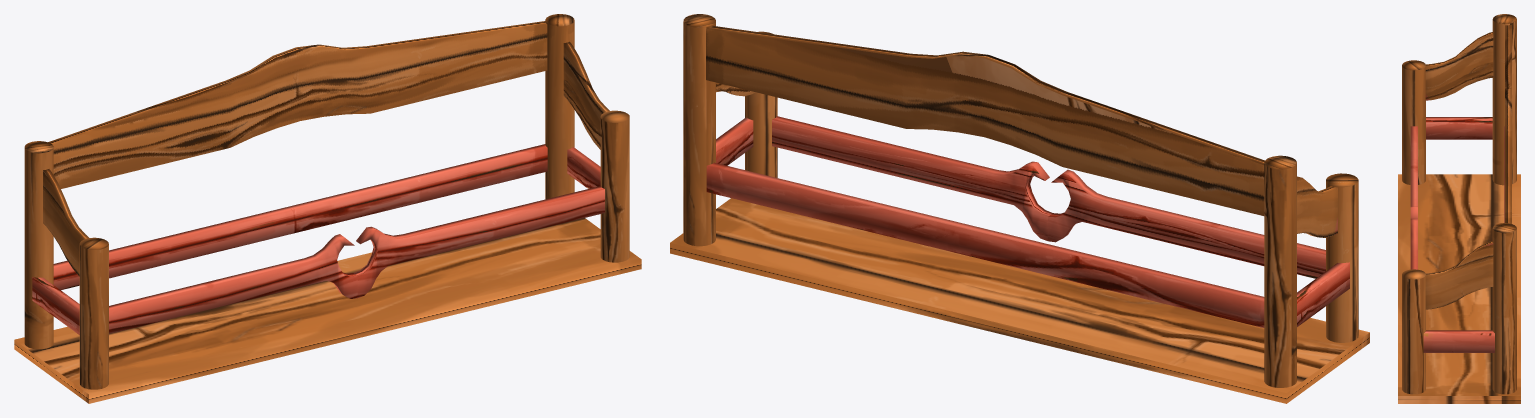
Rendered from kruidenrekje.fbx.
3 renders of one model, left to right at view 1: azimuth 30°, elevation 25°; view 2: azimuth 150°, elevation 25°; view 3: azimuth 270°, elevation 25°, orthographic. The views are drawn at different scales.
Visible parts, largest first — view 1: polySurface1; view 2: polySurface1; view 3: polySurface1.
Boxes of the visible parts, <box> form: polySurface1: <box>14,14,641,403</box>; polySurface1: <box>670,14,1369,403</box>; polySurface1: <box>1398,14,1520,403</box>.
Bounding box in the file's own units: 4.95 × 2.04 × 1.16.
